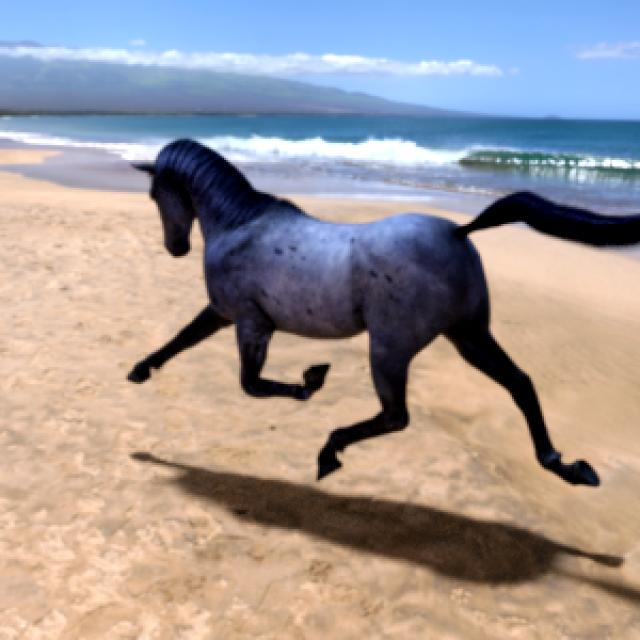horse: (132, 140, 640, 486)
